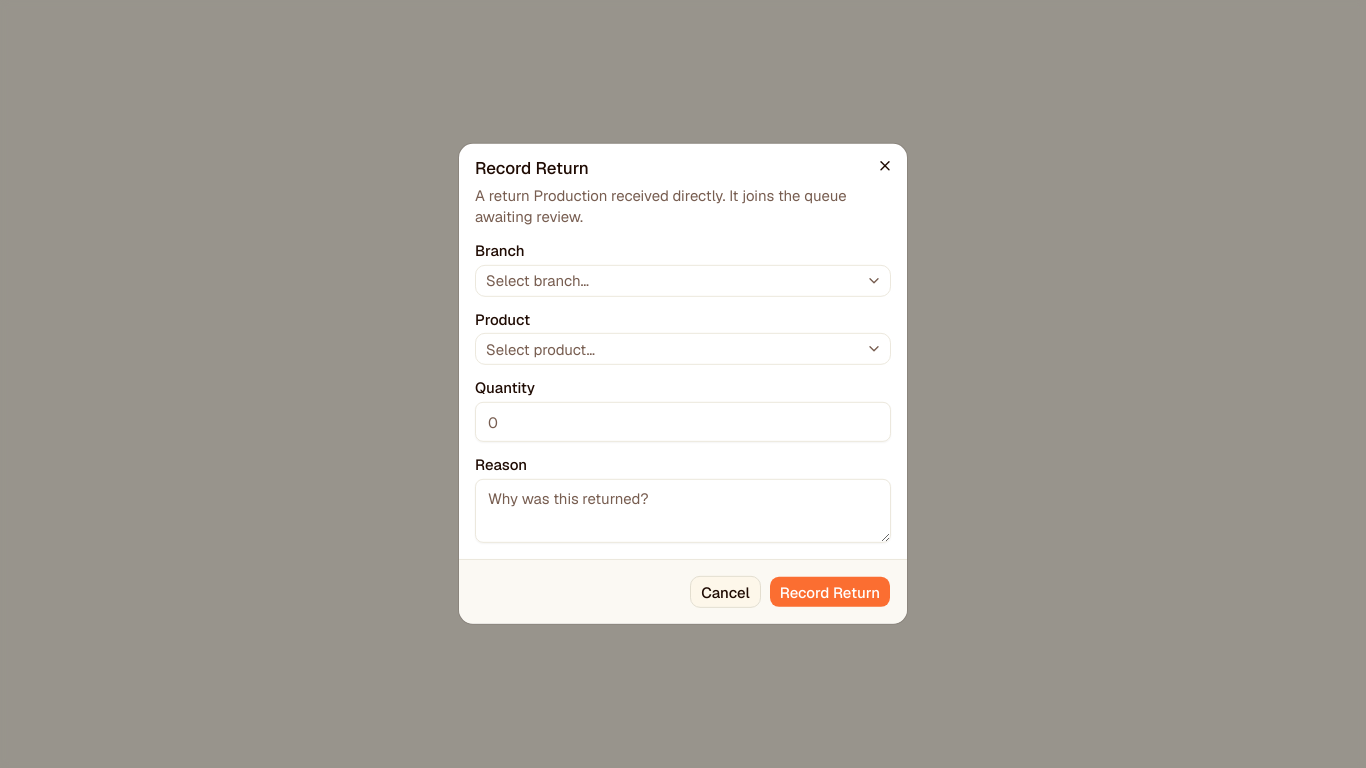
Test: RecordReturnDialog › an empty submit names every missing field and sends nothing
This screenshot has width=1366, height=768.
Step 1. Click the button "Record Return" → (830, 592), box [769,576,891,608]
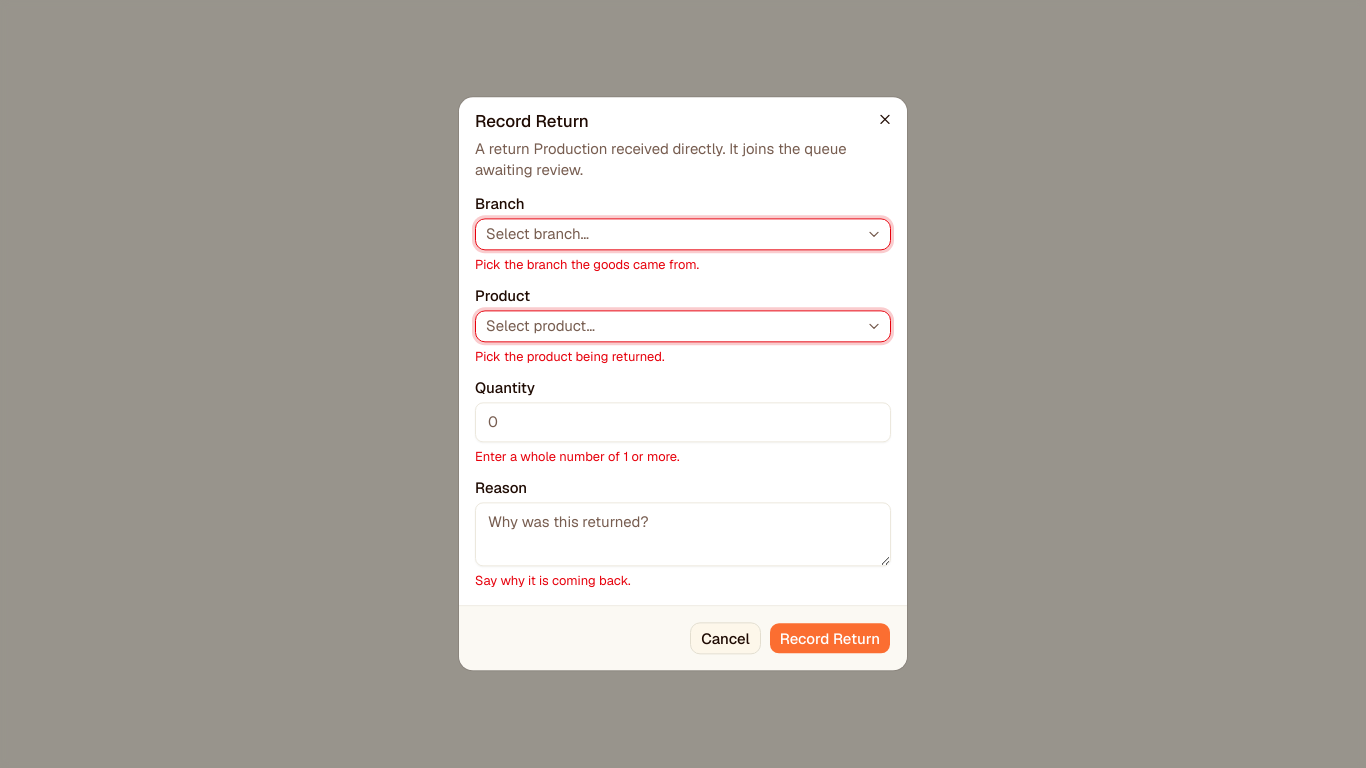
Result: the text "Pick the branch the goods came from." is shown at [475,256,699,273]
Result: the text "Pick the product being returned." is shown at [475,348,664,365]
Result: the text "Enter a whole number of 1 or more." is shown at [475,448,680,465]
